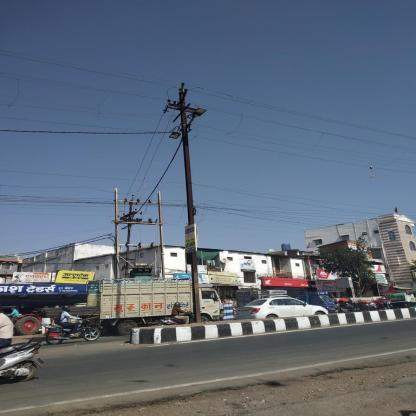Electrical Pole: (157, 79, 224, 325)
